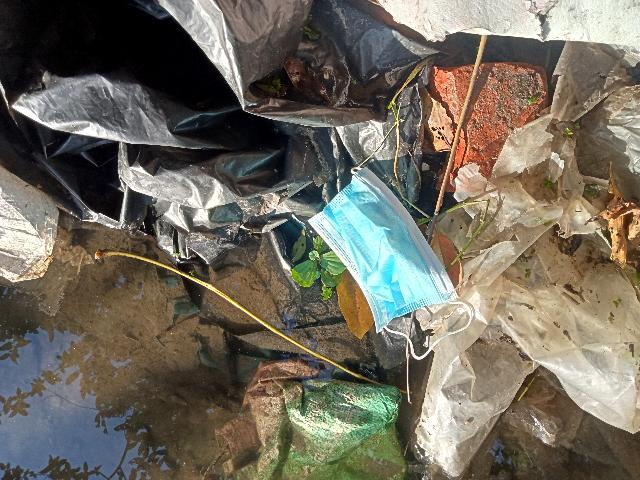mask: (261, 160, 486, 365)
